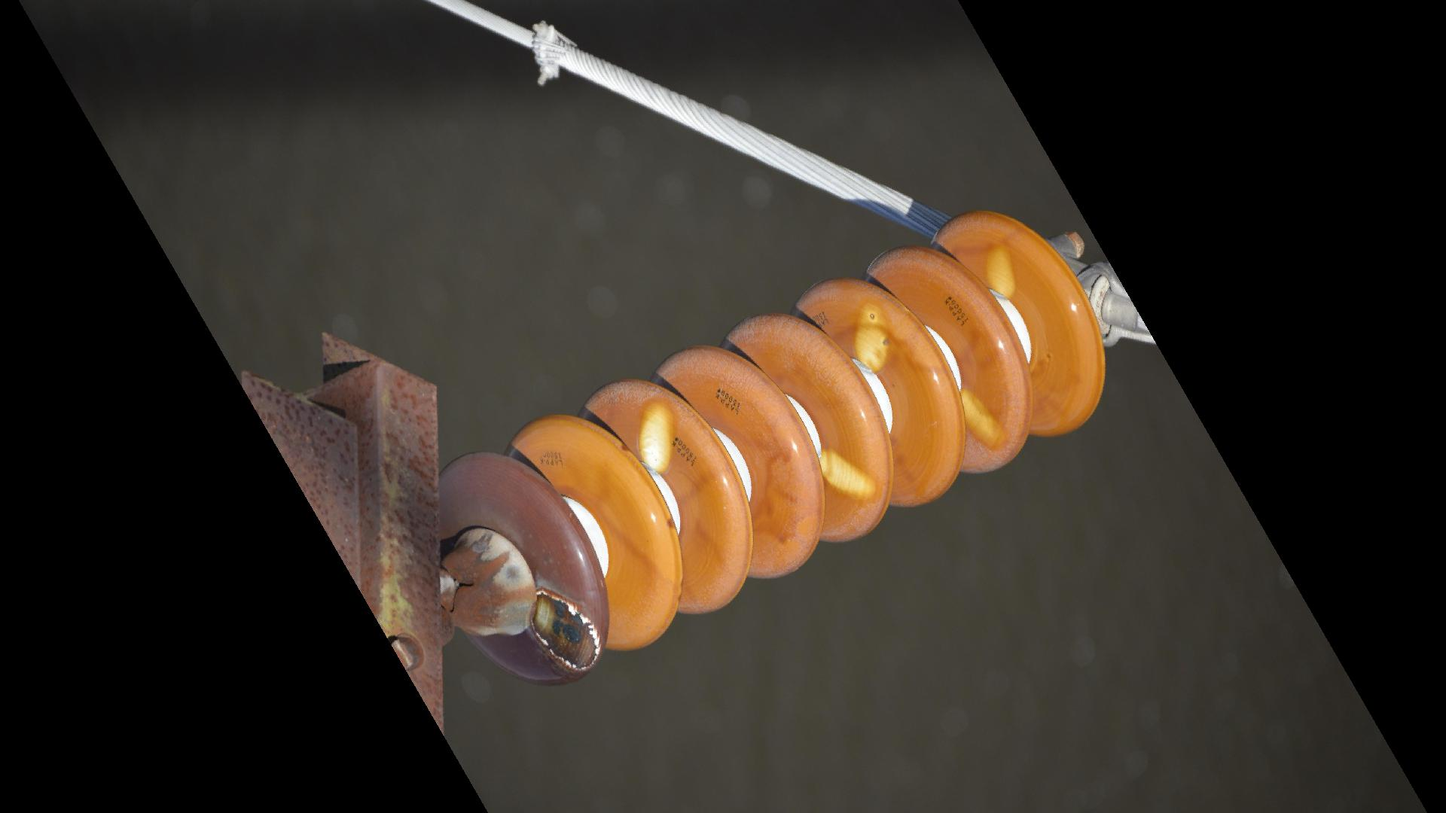insulator: (430, 206, 1112, 692)
insulator_flashover: (520, 583, 607, 679), (955, 385, 1011, 453), (633, 395, 679, 473), (816, 445, 878, 501), (851, 299, 892, 374), (983, 242, 1019, 301)
